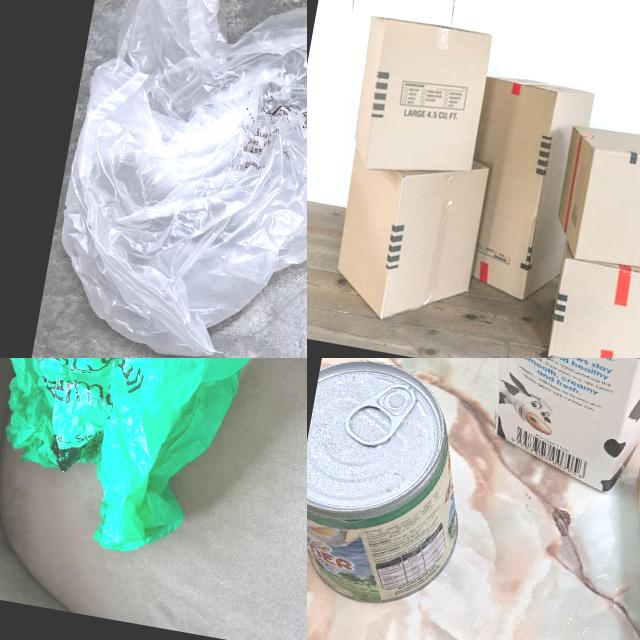aba de lata: (342, 374, 418, 452)
caixinha: (444, 358, 640, 505)
lata: (307, 358, 484, 617)
papelão: (449, 71, 597, 309), (328, 140, 492, 336), (342, 11, 496, 188), (547, 118, 640, 276), (543, 242, 640, 358)
sacola plástica: (37, 0, 307, 358), (0, 358, 272, 572)
